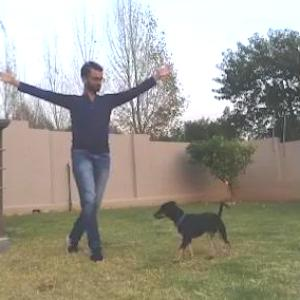takeoff: (1, 45, 182, 266)
